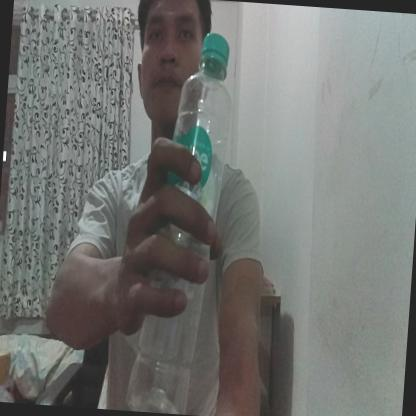plastic_bottles: (125, 22, 238, 416)
